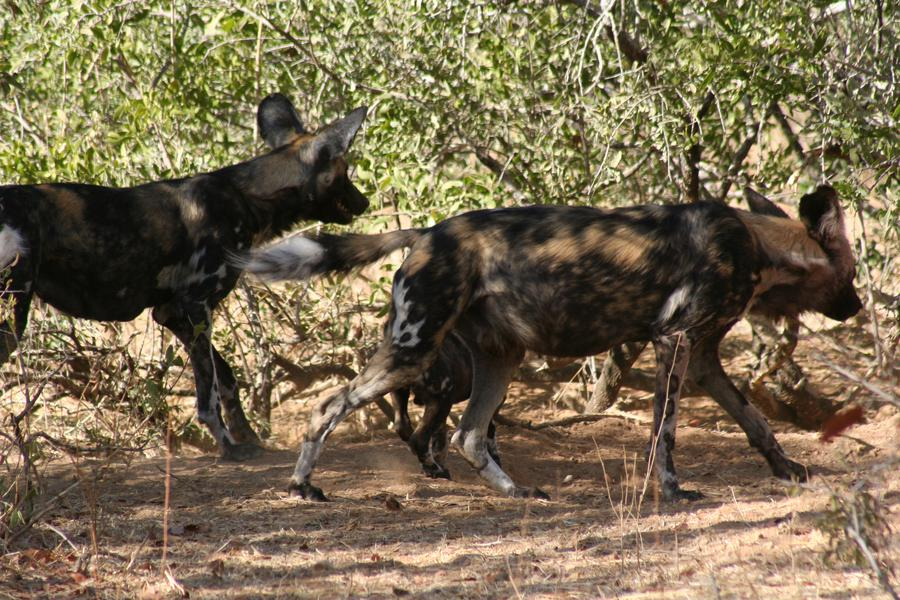wilddog: (381, 185, 857, 346), (13, 111, 365, 303)
